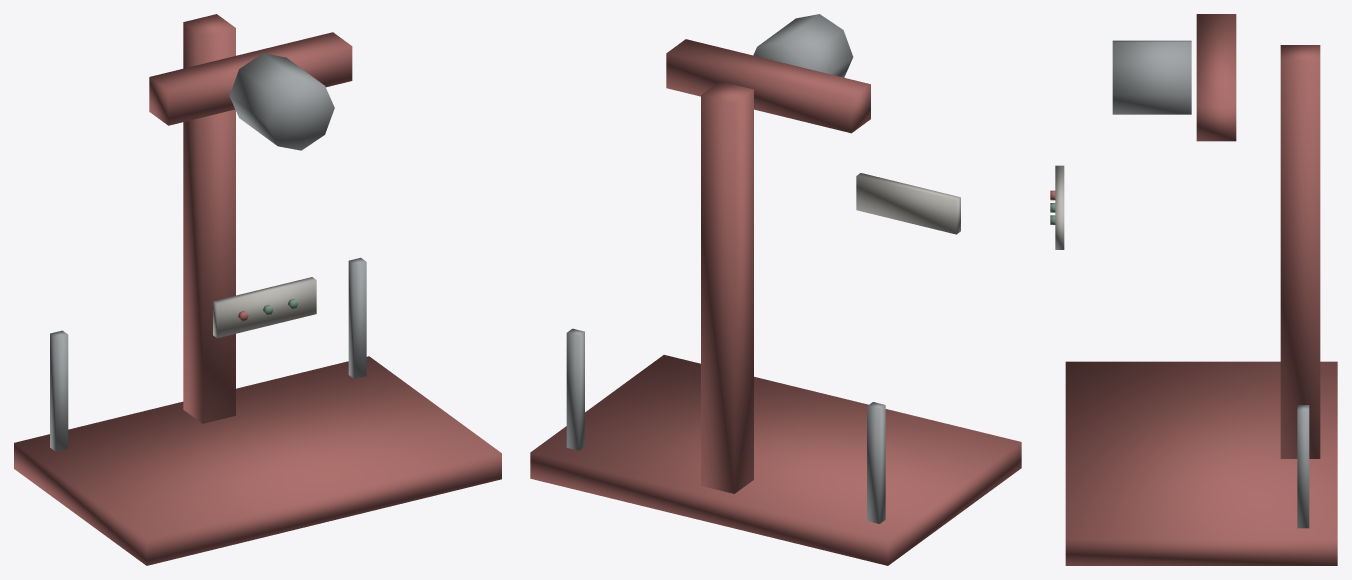
The model's file is engine_stand__reinforced.glb.
3 renders of one model, left to right at view 1: azimuth 30°, elevation 25°; view 2: azimuth 150°, elevation 25°; view 3: azimuth 270°, elevation 25°, orthographic. The views are drawn at different scales.
Visible parts, largest first — view 1: world; view 2: world; view 3: world.
Boxes of the visible parts, x1,y1,x2,y2 form: world: (14,14,501,565); world: (530,14,1021,565); world: (1050,14,1337,565).
Bounding box in the file's own units: 0.8755 × 0.9996 × 0.5984.
